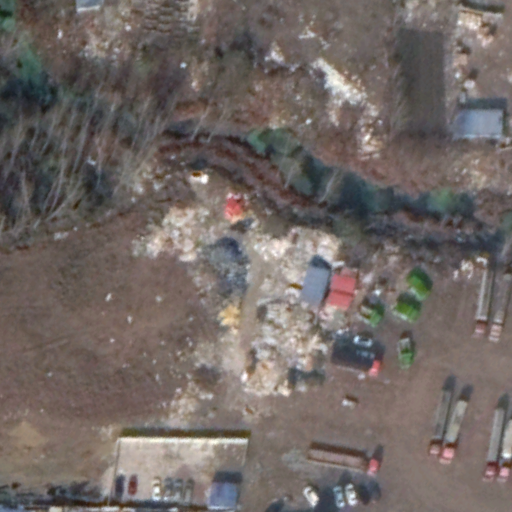msw: (135, 200, 344, 396)
